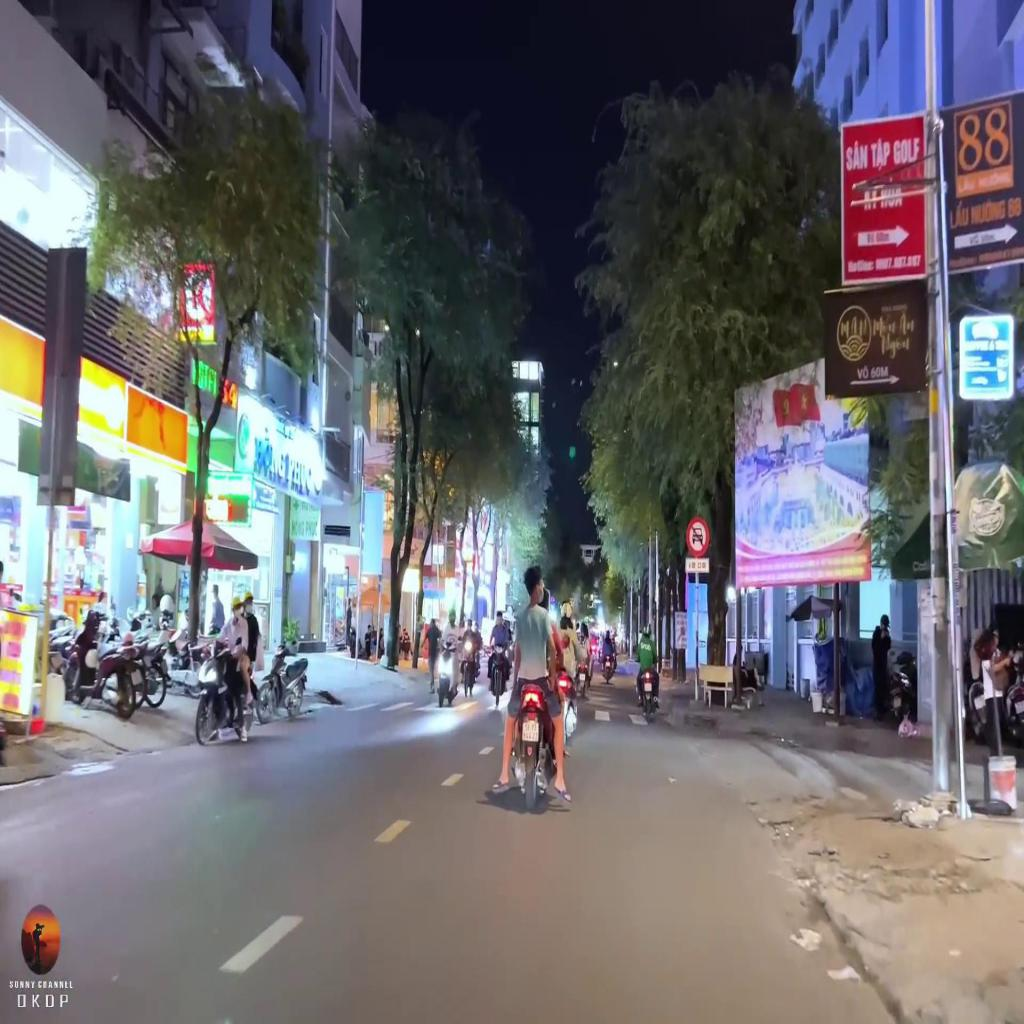cam_o_to: (686, 517, 709, 558)
khac: (684, 556, 710, 574)
